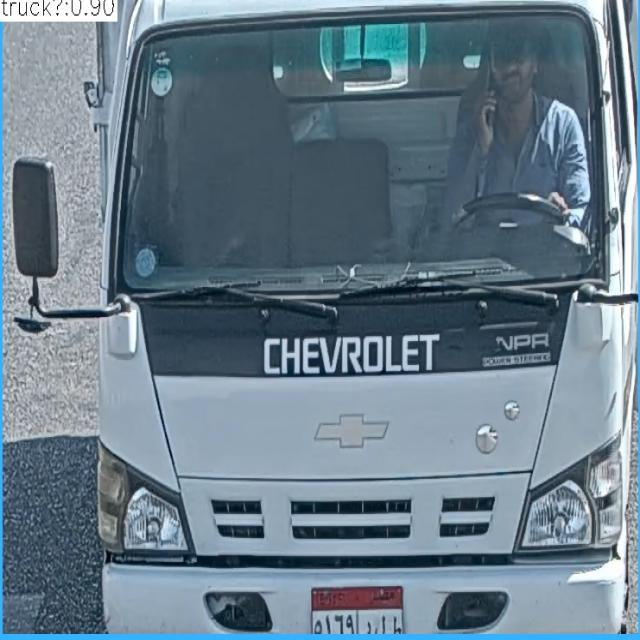windshield: (111, 12, 603, 289)
